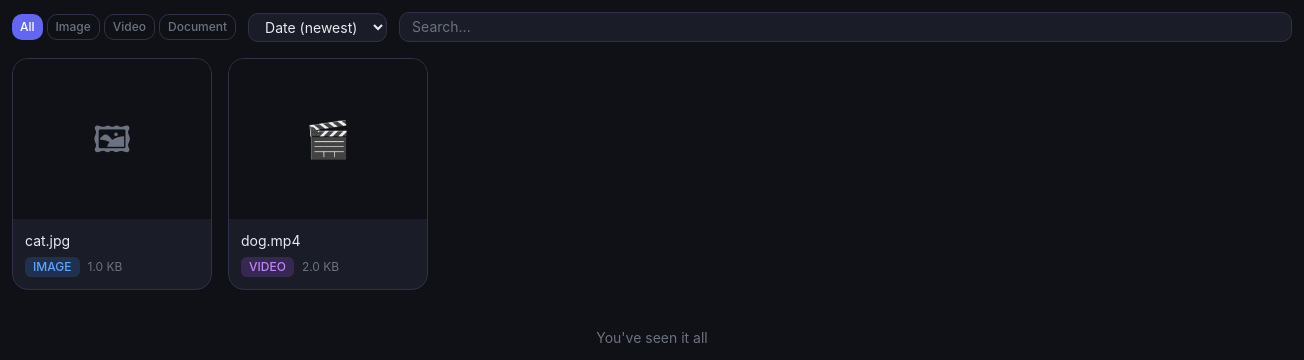
MediaGallery › filters by type
Click the button "Video" at (129, 27), box [104,14,155,40]
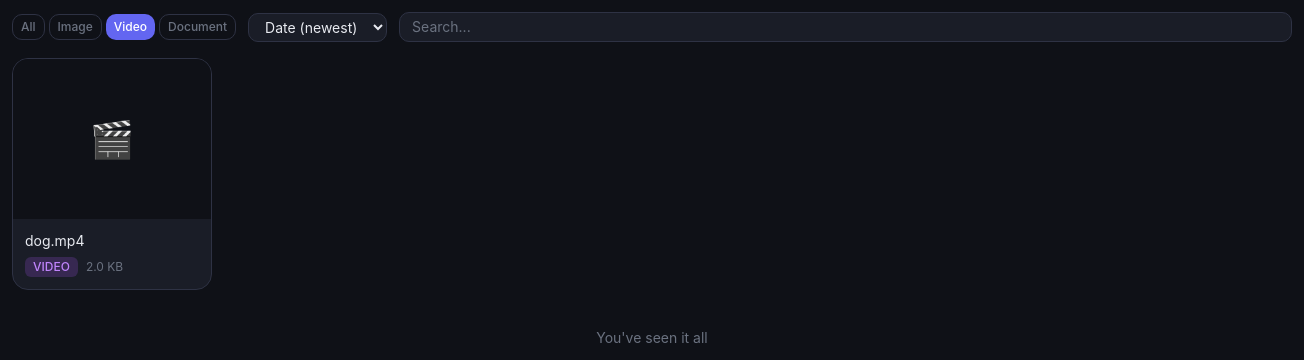
Check: the text "dog.mp4" is shown, box [25,232,84,249]
Check: the text "cat.jpg" is gone
